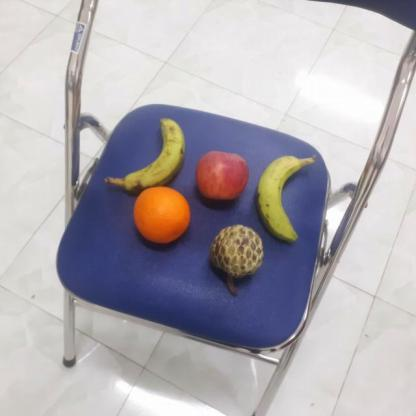annona: (209, 223, 266, 279)
apple: (192, 149, 248, 203)
banana: (113, 116, 189, 191), (254, 154, 318, 241)
orange: (129, 184, 188, 246)
